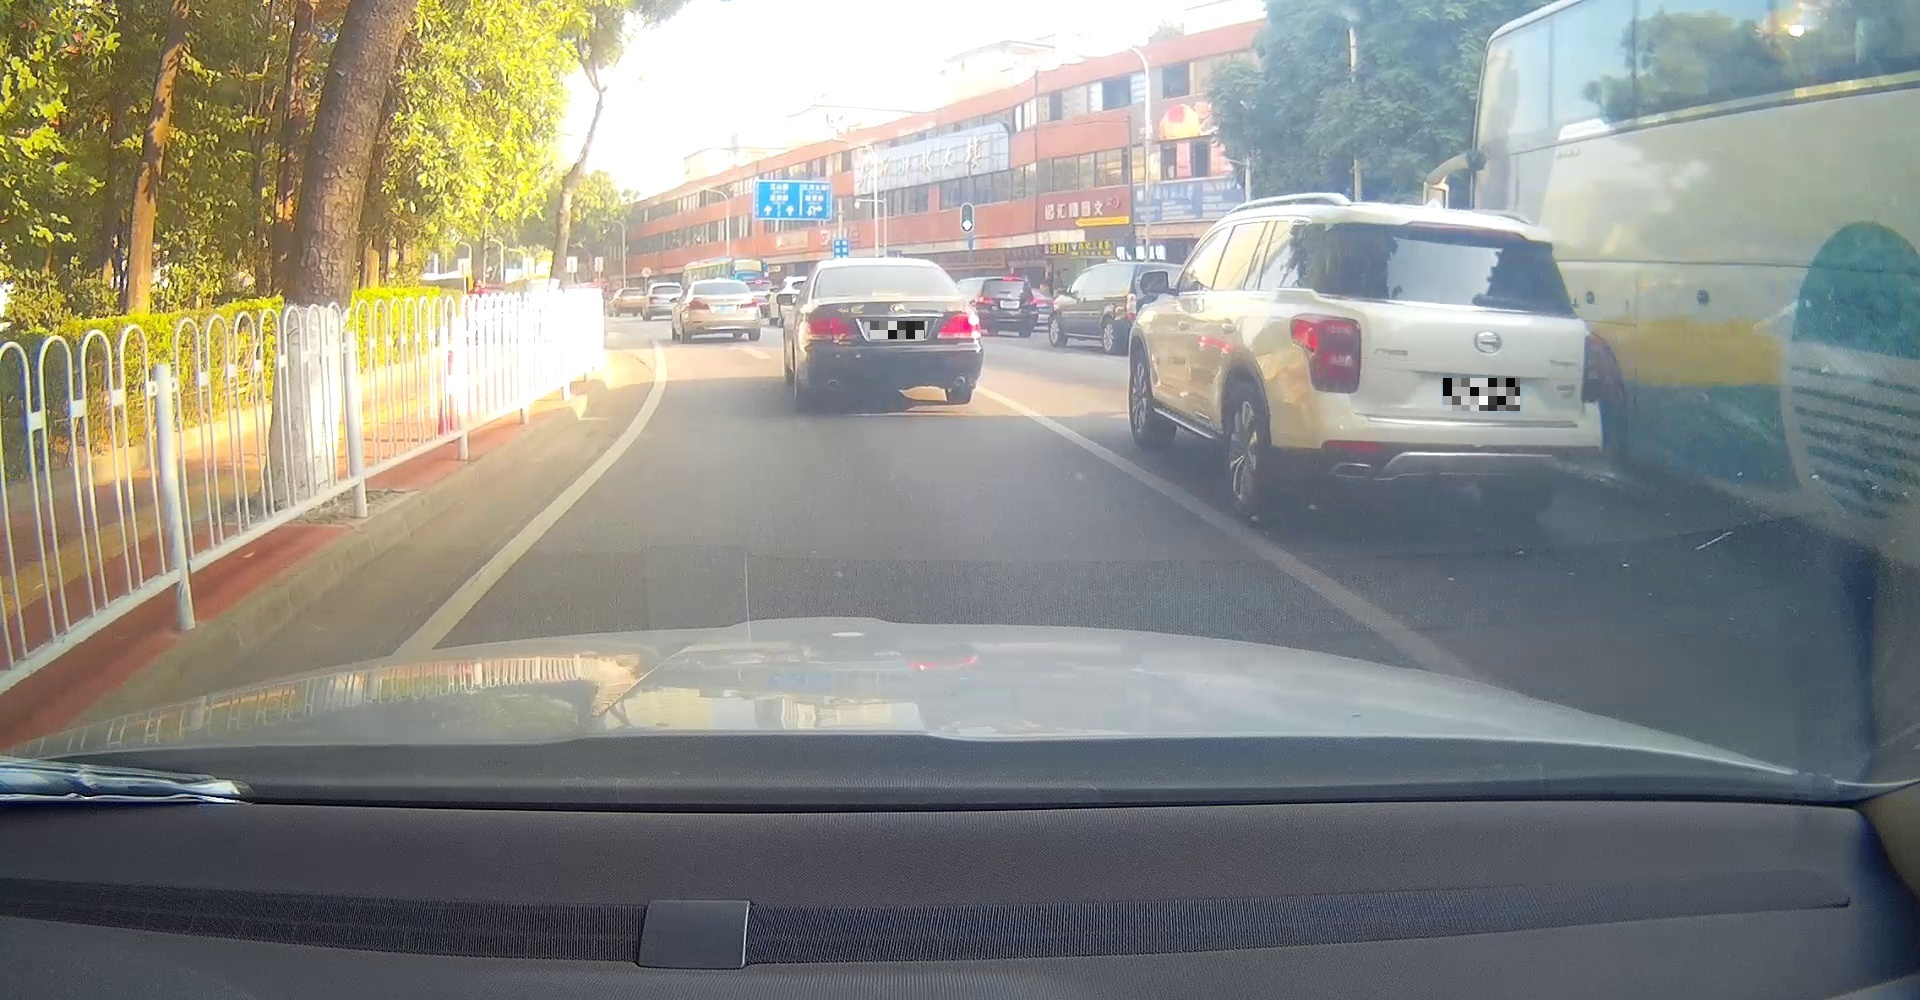L_light: (1289, 313, 1363, 393), (804, 317, 855, 339), (688, 299, 710, 310)
R_light: (1580, 334, 1600, 404), (936, 312, 982, 339), (740, 299, 758, 308)
T_light: (1399, 221, 1528, 242), (871, 292, 905, 297), (716, 293, 728, 294)
day-no: (1288, 193, 1603, 525), (803, 258, 984, 411), (687, 279, 762, 344)
plate_1: (870, 321, 924, 339)
plate_2: (1443, 378, 1520, 411)
